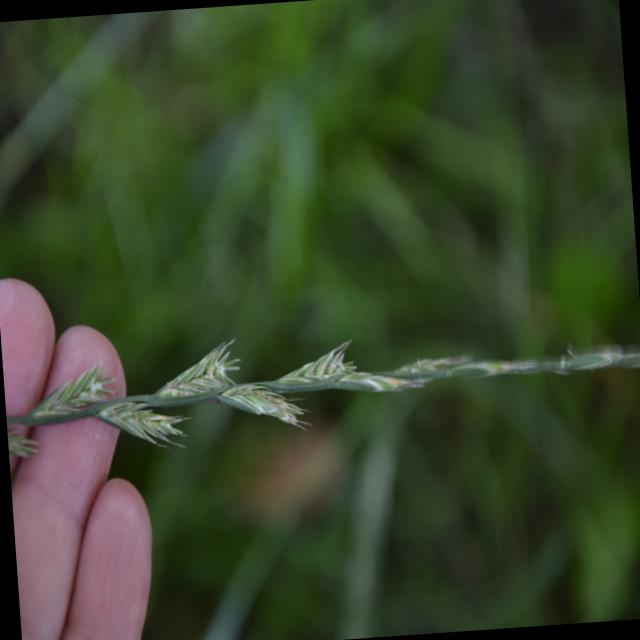Lolium: (2, 305, 640, 470)
